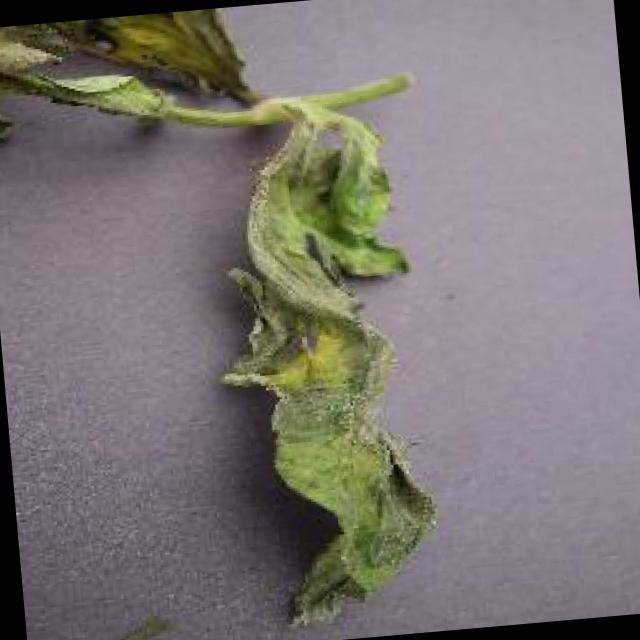Tomato_Late_Blight: (221, 146, 449, 620), (35, 5, 266, 126)
